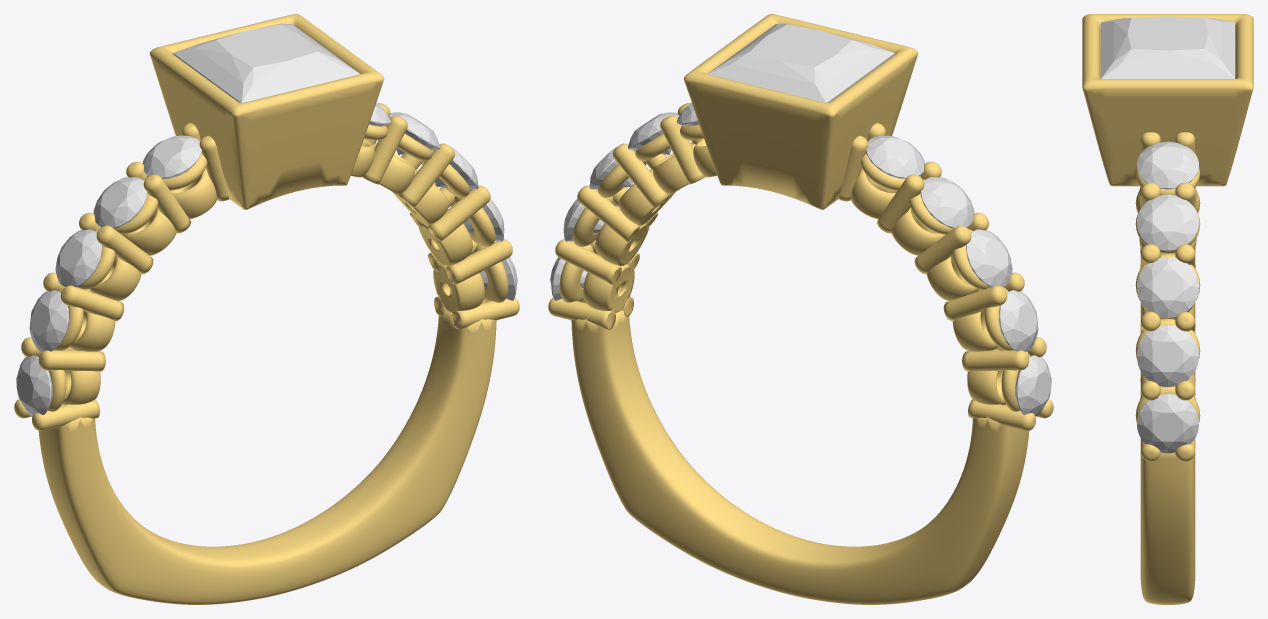
File: diamond-princess-yellowgold-bezelset-europeanshank-11stone.glb
3 views of the same model, side by side, from view 1: azimuth 30°, elevation 25°; view 2: azimuth 150°, elevation 25°; view 3: azimuth 270°, elevation 25° (orthographic).
Visible parts, largest first — view 1: metal, stone, side.002, side.003, side.001, side.004, side, side.006; view 2: metal, stone, side.002, side.003, side.001, side.004, side, side.006; view 3: metal, stone, side.008, side.007, side.009, side.006, side.005.
Part boxes in pixels (x1=…): metal: x1=14, y1=14, x2=519, y2=604; stone: x1=173, y1=23, x2=360, y2=102; side.002: x1=55, y1=229, x2=101, y2=287; side.003: x1=93, y1=177, x2=147, y2=228; side.001: x1=29, y1=290, x2=69, y2=351; side.004: x1=142, y1=135, x2=201, y2=178; side: x1=16, y1=355, x2=52, y2=416; side.006: x1=389, y1=112, x2=439, y2=154; metal: x1=548, y1=14, x2=1053, y2=604; stone: x1=707, y1=23, x2=894, y2=102; side.002: x1=966, y1=229, x2=1012, y2=287; side.003: x1=920, y1=177, x2=974, y2=228; side.001: x1=998, y1=290, x2=1038, y2=351; side.004: x1=866, y1=135, x2=925, y2=178; side: x1=1015, y1=355, x2=1051, y2=416; side.006: x1=628, y1=112, x2=678, y2=154; metal: x1=1082, y1=14, x2=1253, y2=604; stone: x1=1100, y1=16, x2=1235, y2=78; side.008: x1=1137, y1=325, x2=1198, y2=387; side.007: x1=1137, y1=257, x2=1198, y2=317; side.009: x1=1137, y1=394, x2=1198, y2=453; side.006: x1=1137, y1=194, x2=1198, y2=250; side.005: x1=1137, y1=141, x2=1198, y2=189.
Size of the model in its own units: 22.2 by 23.65 by 6.89.
